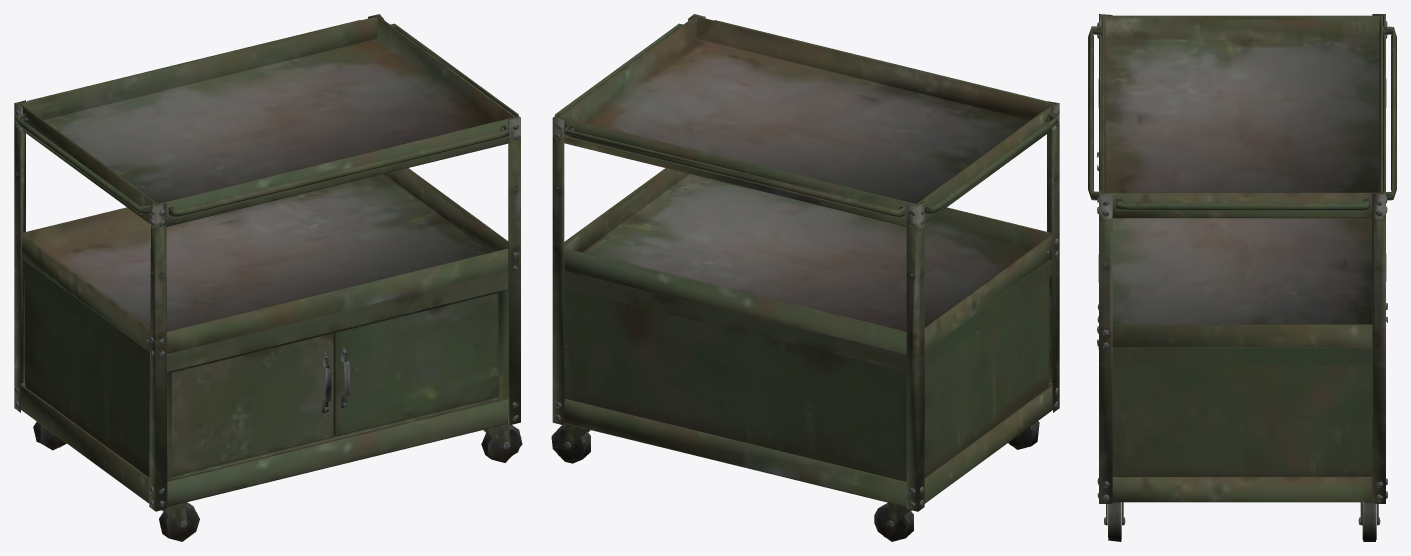
File: storage_cart.glb
3 views of the same model, side by side, from view 1: azimuth 30°, elevation 25°; view 2: azimuth 150°, elevation 25°; view 3: azimuth 270°, elevation 25° (orthographic).
Visible parts, largest first — view 1: industrial_storage_cart; view 2: industrial_storage_cart; view 3: industrial_storage_cart.
Boxes of the visible parts, left/top/right/bottom form: industrial_storage_cart: left=14, top=14, right=522, bottom=541; industrial_storage_cart: left=551, top=14, right=1059, bottom=541; industrial_storage_cart: left=1088, top=14, right=1396, bottom=541.
Bounding box in the file's own units: 1.6 × 1.38 × 1.1.
1 material, 1 textured.
